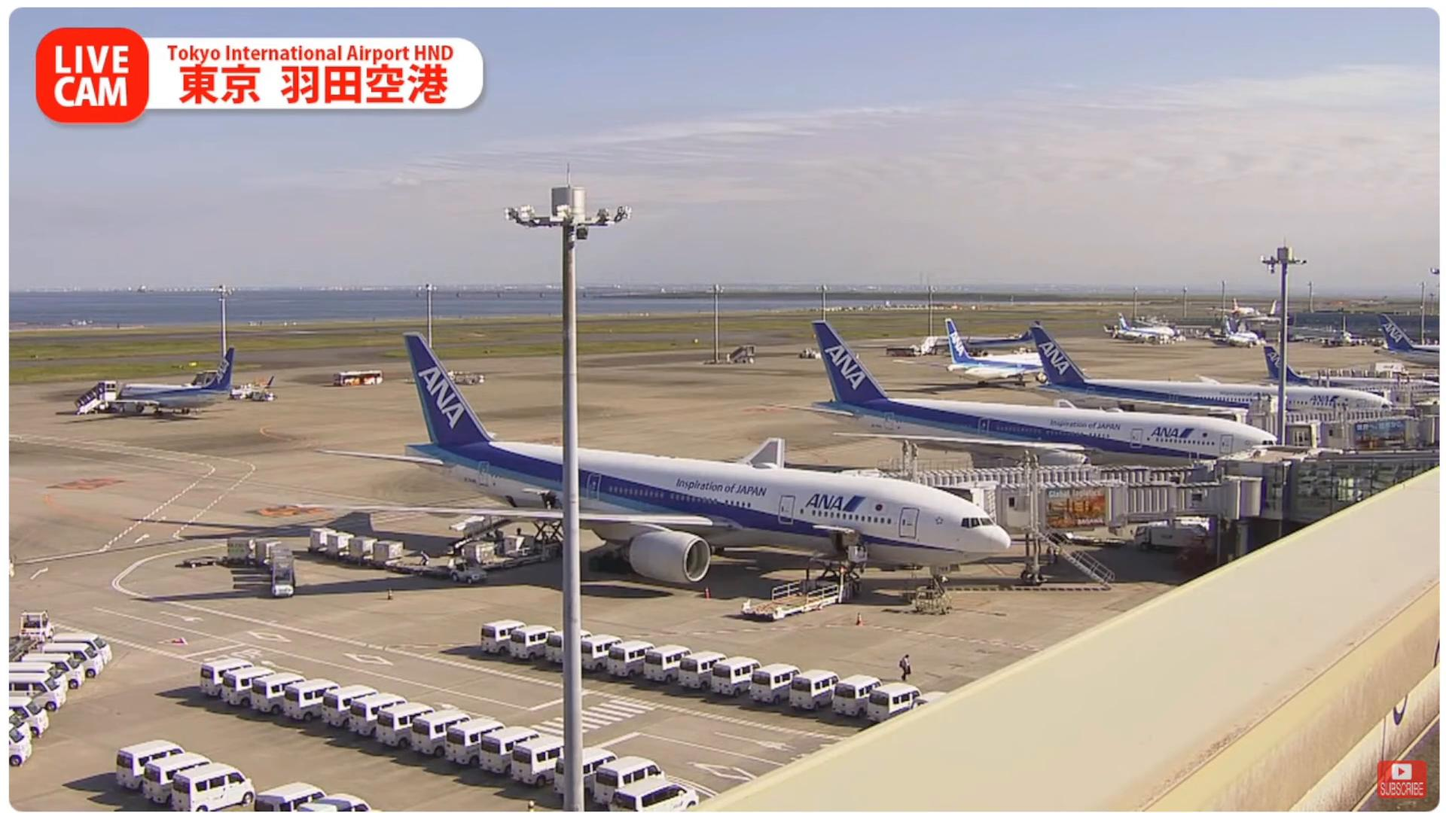Aerobridge: (956, 480, 1243, 535), (885, 461, 1213, 481)
Airplane: (290, 330, 1014, 584)
Dolly: (218, 538, 310, 581), (319, 546, 428, 571)
JCPL: (740, 556, 868, 618), (425, 524, 556, 579)
Skyloader: (432, 512, 553, 556)
Tractor: (268, 564, 311, 601), (300, 532, 326, 556)
Window: (1270, 448, 1442, 536)
